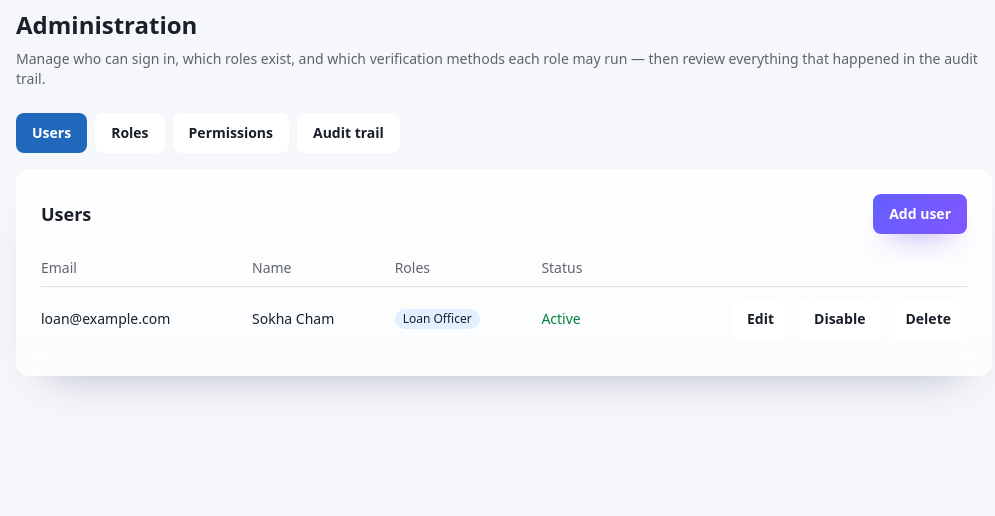
Test: the permissions tab › sends the role whole permission set and confirms the save
The image size is (995, 516).
What coordinates should you click on to do the following:
click the tab "Permissions"
I would click on:
 (231, 133)
Its box is [173, 113, 289, 153].
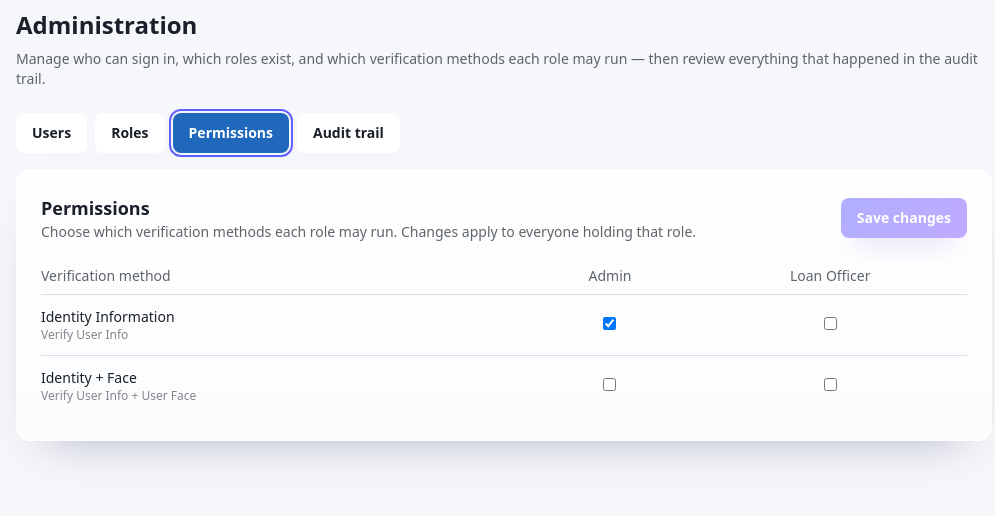
Expected: the checkbox named "Identity Information for Loan Officer" is not checked
What coordinates should you click on to do the following:
click the checkbox named "Identity Information for Loan Officer"
I would click on:
 (830, 324)
Its box is [824, 317, 837, 330].
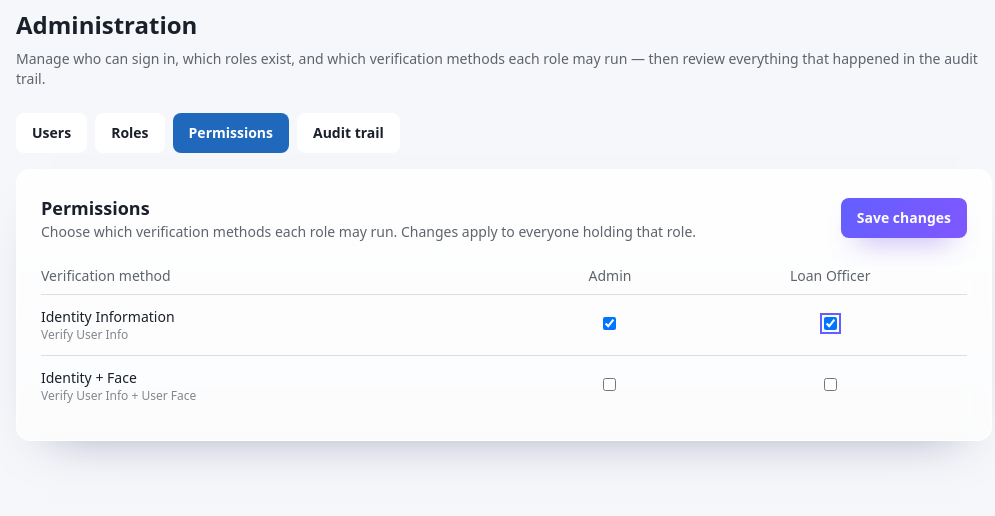
Expected: the button "Save changes" is enabled
What coordinates should you click on to do the following:
click the button "Save changes"
I would click on:
 (904, 218)
Its box is [841, 198, 967, 238].
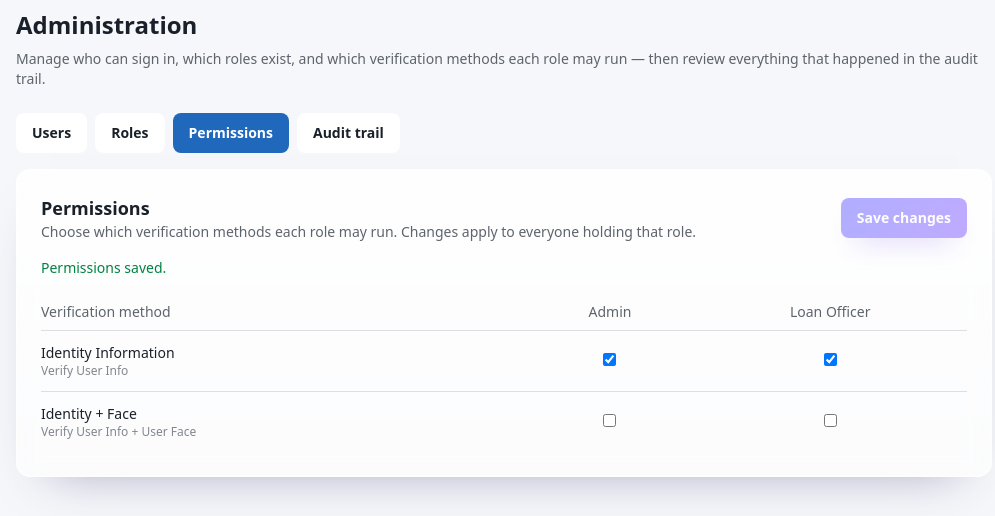
Expected: the checkbox named "Identity Information for Loan Officer" is checked, [824, 353, 837, 366]
Expected: the message reads "Permissions saved.", [41, 258, 166, 277]
